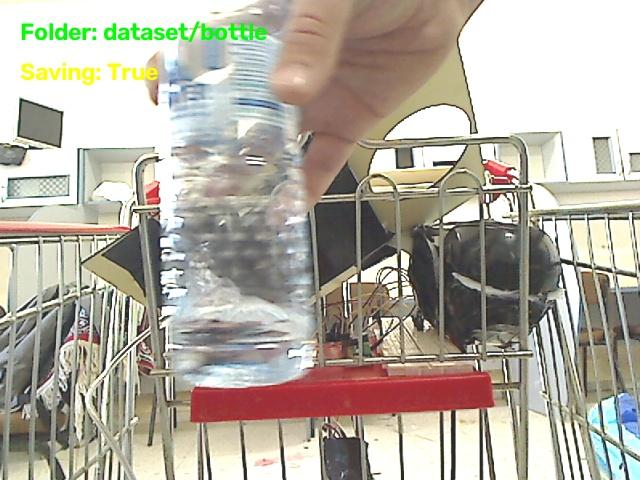Bottle: (159, 0, 314, 387)
